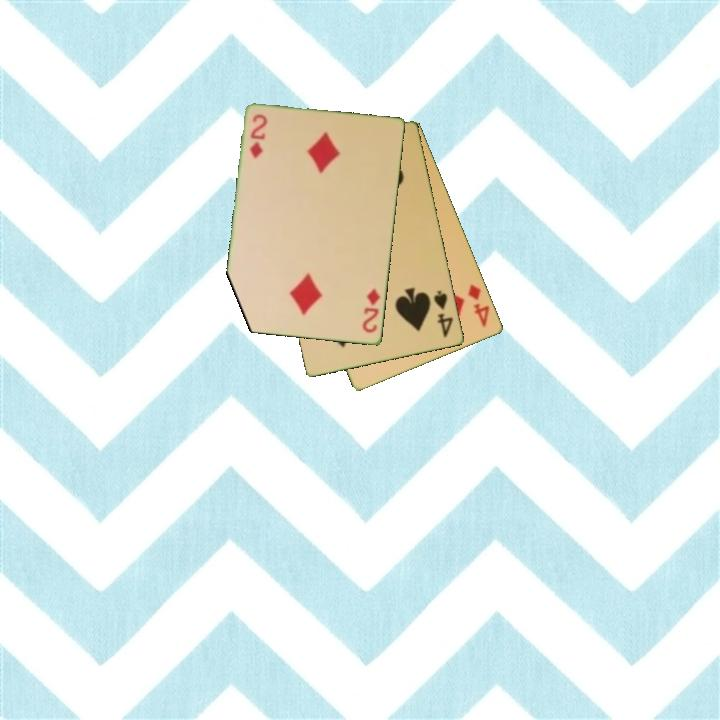2d: (359, 285, 383, 336), (247, 111, 269, 162)
4d: (465, 280, 493, 330)
4s: (430, 287, 456, 341)
